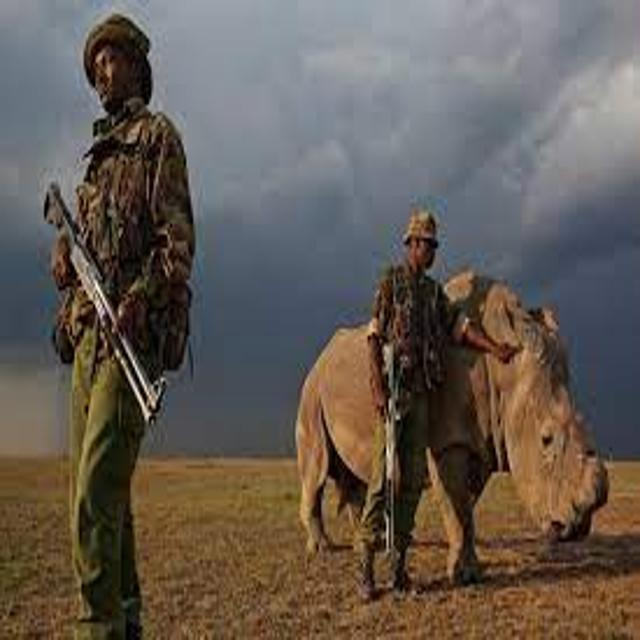gun: (17, 160, 201, 455), (344, 315, 439, 591)
ranger: (2, 1, 251, 640), (310, 187, 546, 618)
rhino: (268, 245, 634, 602)
